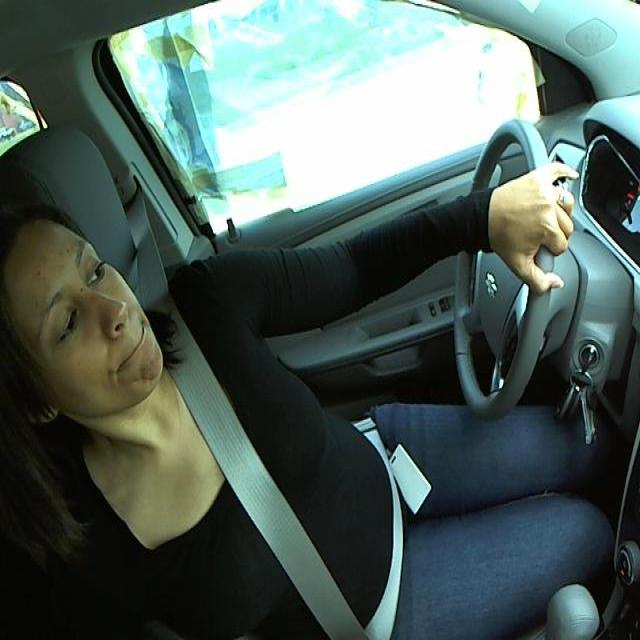seatbelt: (125, 316, 414, 628)
